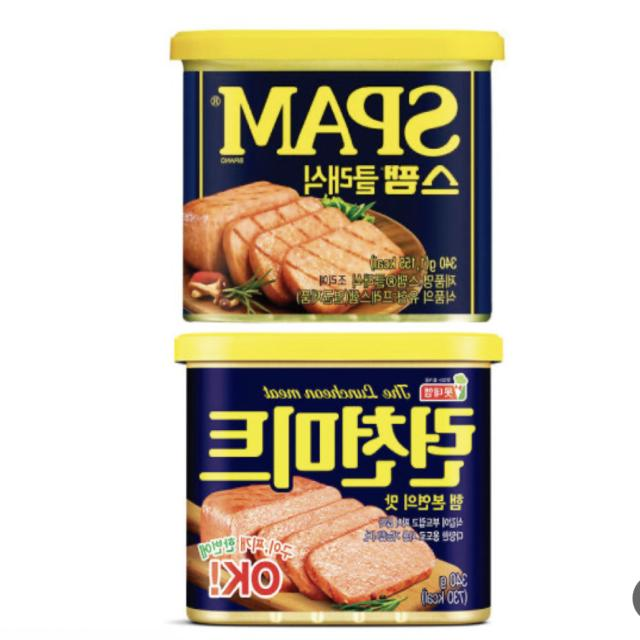can: (166, 10, 520, 332), (174, 332, 518, 632)
